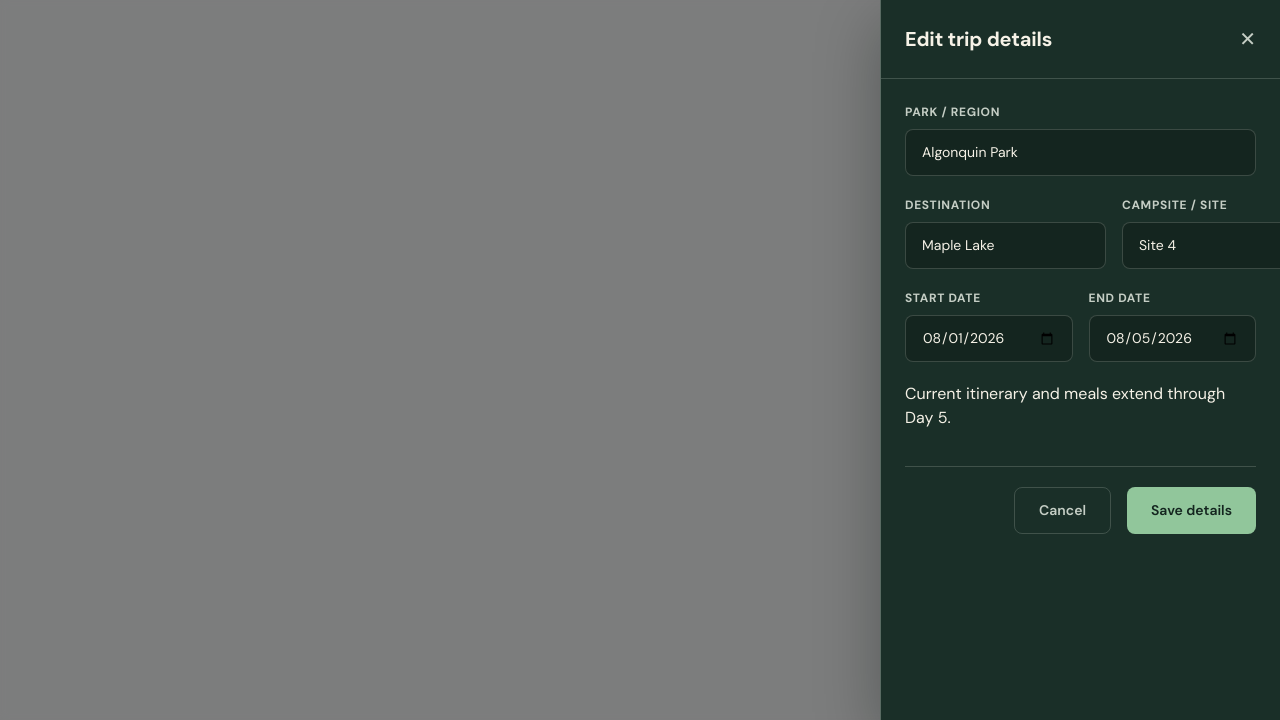
TripDetailsSheet › rejects a date range that would orphan later plans
Type "2026-08-03" into the date field labelled "End date". click: (1172, 338)
box: [1088,315,1256,362]
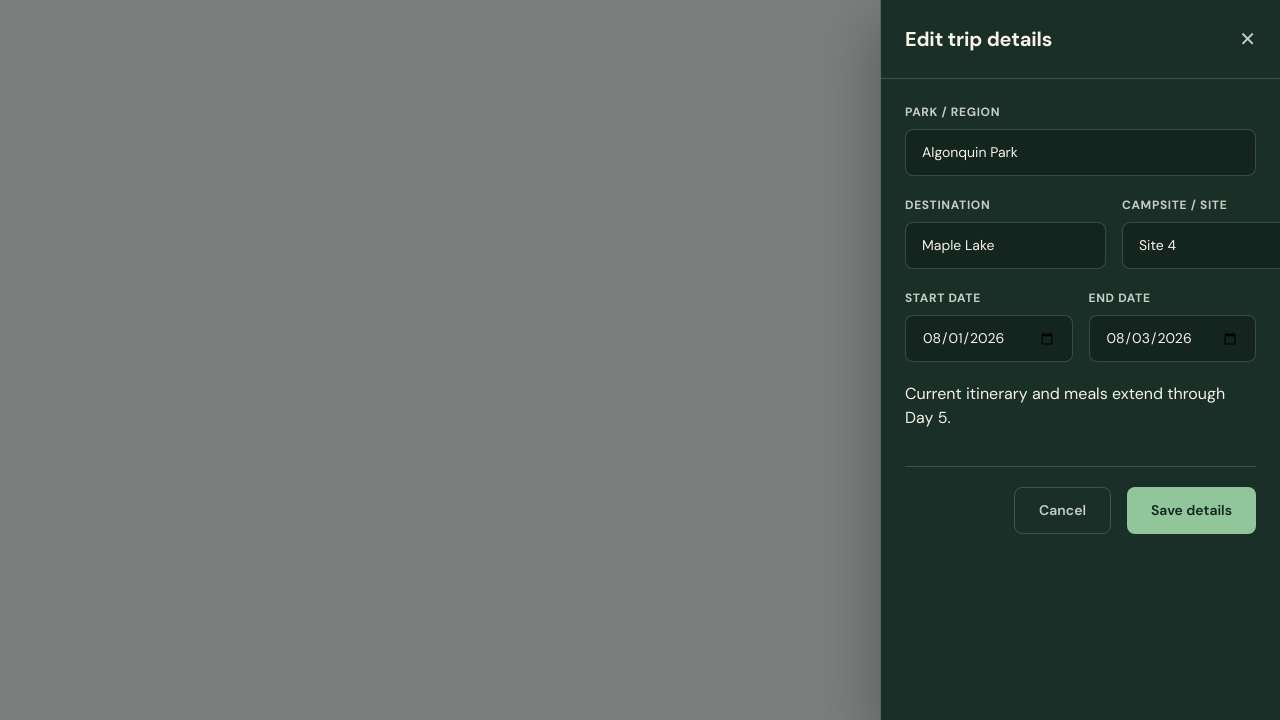
Click the button "Save details". click: (1192, 510)
box: [1127,487,1256,534]
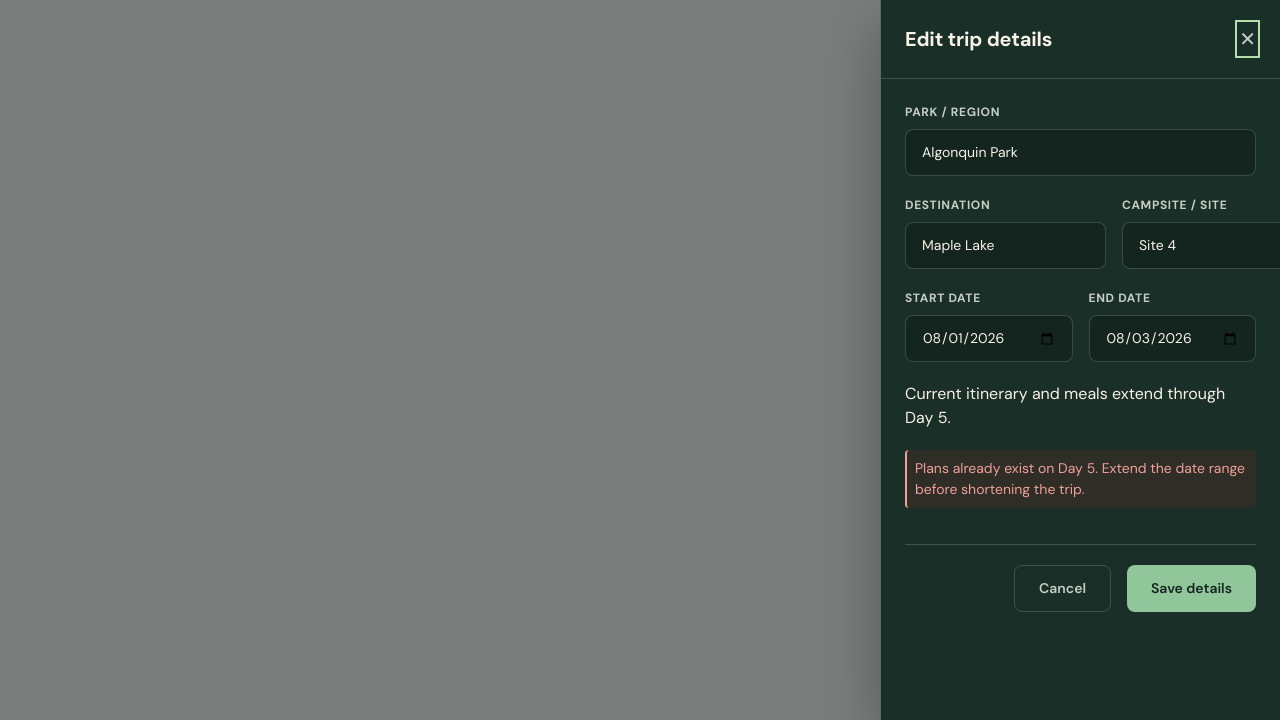
Now the message shows "Day 5", box [915,459,1245,498]
